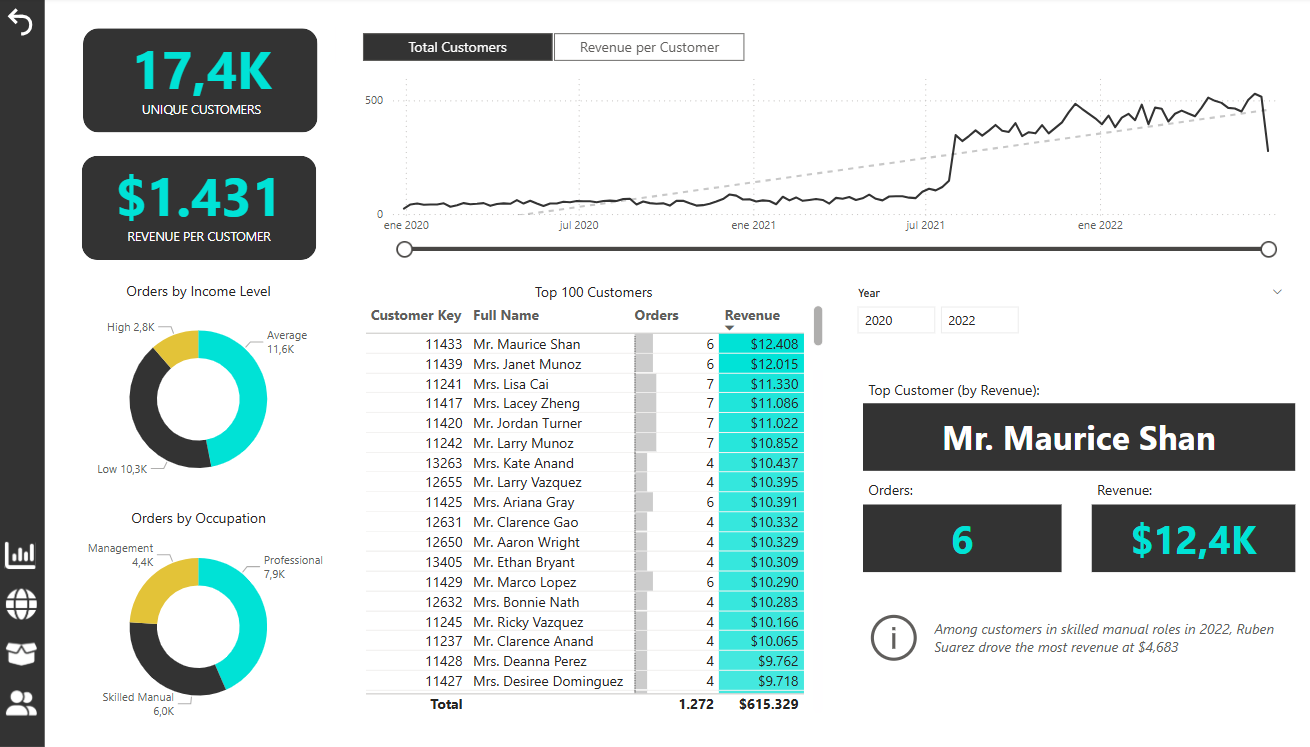

Layout of this report page (visuals, bound fields, positions):
{"tool":"powerbi","page":{"name":"Customer Detail","canvas":[1280,720],"ordinal":3},"visuals":[{"type":"shape","box":[0,0,45,720],"z":0},{"type":"actionButton","box":[2.5,516.7,45.6,37.8],"z":0,"group":"g1"},{"type":"shape","box":[81.7,30,225,100],"z":1000},{"type":"actionButton","box":[3.3,563.4,45.6,37.8],"z":1000,"group":"g1"},{"type":"actionButton","box":[3.3,611.1,45.6,37.8],"z":2000,"group":"g1"},{"type":"shape","box":[80,152.7,225,100],"z":2000},{"type":"card","fields":{"Values":["Measure Table.Total Customers"]},"box":[66.7,0,256.2,150],"z":3000},{"type":"actionButton","box":[3.3,657.8,45.6,37.8],"z":3000,"group":"g1"},{"type":"card","fields":{"Values":["Measure Table.Average Revenue per Customer"]},"box":[65,122.7,256.2,150],"z":4000},{"type":"lineChart","fields":{"Y":["Measure Table.Total Customers"],"Category":["Calendar Lookup.Date Hierarchy.Year","Calendar Lookup.Date Hierarchy.Start of Month","Calendar Lookup.Date Hierarchy.Start of Week","Calendar Lookup.Date Hierarchy.Date"]},"box":[345.9,63.3,898.6,188.8],"z":5000},{"type":"donutChart","title":"Orders by Income Level","fields":{"Category":["Customer Lookup.Income Level"],"Y":["Measure Table.Total Orders"]},"box":[63.8,272.5,257.5,210],"z":6000},{"type":"donutChart","title":"Orders by Occupation","fields":{"Y":["Measure Table.Total Orders"],"Category":["Customer Lookup.Occupation"]},"box":[63.8,490,257.5,210],"z":7000},{"type":"tableEx","title":"Top 100 Customers","fields":{"Values":["Customer Lookup.CustomerKey","Customer Lookup.Full Name","Measure Table.Total Orders","Measure Table.Total Revenue"]},"box":[346,273.6,449.4,418.4],"z":8000},{"type":"card","fields":{"Values":["Min(Customer Lookup.Full Name)"]},"box":[829.6,390.1,414.5,65.1],"z":9000},{"type":"card","fields":{"Values":["Measure Table.Total Orders"]},"box":[829.6,487,190.7,65.1],"z":10000},{"type":"card","fields":{"Values":["Measure Table.Total Revenue"]},"box":[1048.7,487,195.4,65.1],"z":11000},{"type":"textbox","box":[829.6,361.7,190.7,37.9],"z":12000},{"type":"textbox","box":[829.6,458.4,190.7,37.9],"z":13000},{"type":"textbox","box":[1048.7,458.4,190.7,37.9],"z":14000},{"type":"slicer","fields":{"Values":["Calendar Lookup.Year"]},"box":[811.6,272.4,432.9,80.3],"z":15000},{"type":"actionButton","box":[830,586.7,410,56.7],"z":16000},{"type":"actionButton","box":[3.3,5.6,35.6,35.6],"z":17000},{"type":"group","id":"g1","title":"Navigation Buttons","box":[2.5,516.7,46.4,178.9],"z":18000},{"type":"slicer","fields":{"Values":["Customer Metric Selection.Customer Metric Selection"]},"box":[323.3,27.1,415.9,36.2],"z":19000}]}

Visuals, with their boxes on the page's 1280x720 design canvas (x1, y1, x2, y2). These are canvas units, not pixel positions in the 1310x747 screenshot, which may show the page scaled, cropped or inside an application window:
shape: {"left": 0, "top": 0, "right": 45, "bottom": 720}
actionButton: {"left": 2, "top": 517, "right": 48, "bottom": 554}
shape: {"left": 82, "top": 30, "right": 307, "bottom": 130}
actionButton: {"left": 3, "top": 563, "right": 49, "bottom": 601}
actionButton: {"left": 3, "top": 611, "right": 49, "bottom": 649}
shape: {"left": 80, "top": 153, "right": 305, "bottom": 253}
card - Measure Table.Total Customers: {"left": 67, "top": 0, "right": 323, "bottom": 150}
actionButton: {"left": 3, "top": 658, "right": 49, "bottom": 696}
card - Measure Table.Average Revenue per Customer: {"left": 65, "top": 123, "right": 321, "bottom": 273}
lineChart - Measure Table.Total Customers x Calendar Lookup.Date Hierarchy.Year: {"left": 346, "top": 63, "right": 1244, "bottom": 252}
"Orders by Income Level" donutChart: {"left": 64, "top": 272, "right": 321, "bottom": 482}
"Orders by Occupation" donutChart: {"left": 64, "top": 490, "right": 321, "bottom": 700}
"Top 100 Customers" tableEx: {"left": 346, "top": 274, "right": 795, "bottom": 692}
card - Min(Customer Lookup.Full Name): {"left": 830, "top": 390, "right": 1244, "bottom": 455}
card - Measure Table.Total Orders: {"left": 830, "top": 487, "right": 1020, "bottom": 552}
card - Measure Table.Total Revenue: {"left": 1049, "top": 487, "right": 1244, "bottom": 552}
textbox: {"left": 830, "top": 362, "right": 1020, "bottom": 400}
textbox: {"left": 830, "top": 458, "right": 1020, "bottom": 496}
textbox: {"left": 1049, "top": 458, "right": 1239, "bottom": 496}
slicer - Calendar Lookup.Year: {"left": 812, "top": 272, "right": 1244, "bottom": 353}
actionButton: {"left": 830, "top": 587, "right": 1240, "bottom": 643}
actionButton: {"left": 3, "top": 6, "right": 39, "bottom": 41}
"Navigation Buttons" group: {"left": 2, "top": 517, "right": 49, "bottom": 696}
slicer - Customer Metric Selection.Customer Metric Selection: {"left": 323, "top": 27, "right": 739, "bottom": 63}
